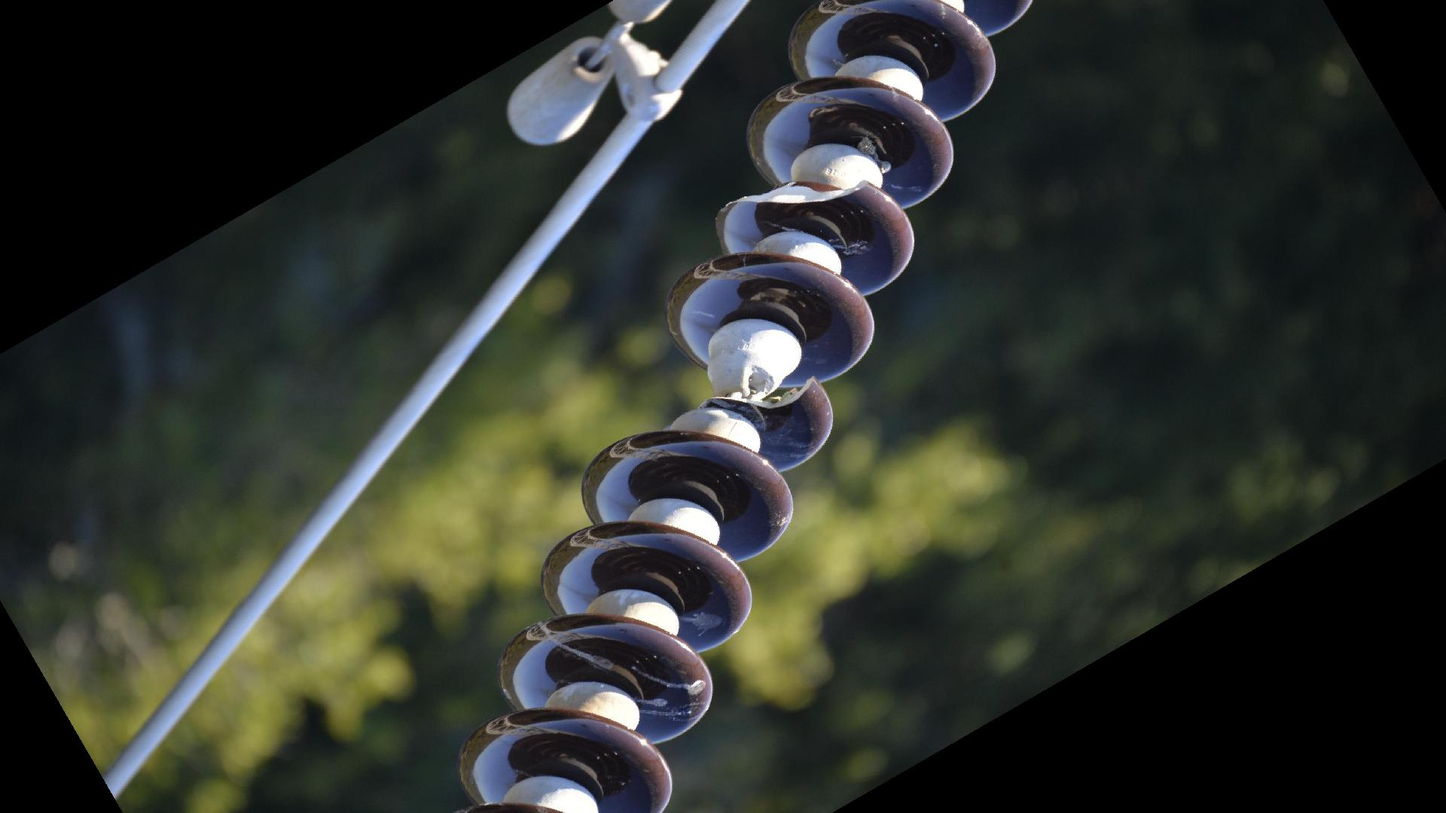insulator: (449, 1, 1041, 813)
insulator_breakage: (714, 175, 874, 217), (697, 369, 820, 420)
